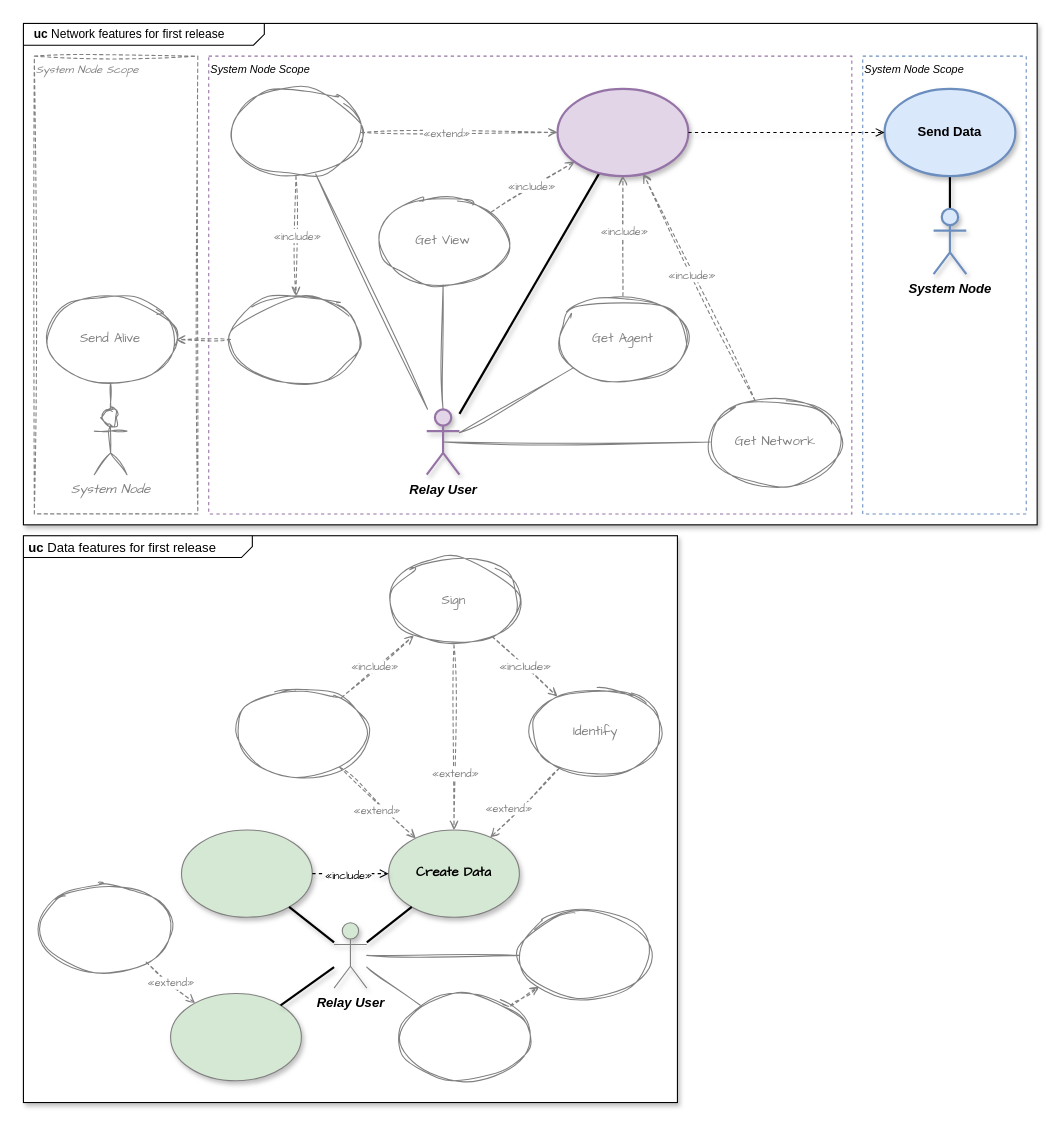
The diagram is 1063 pixels wide and 1129 high, and some of its shapes have lost their labels. Each missing label, with the centre of its shape:
"Connect to Network" goes at (x=295, y=132).
"Decrypt" goes at (x=105, y=927).
"Delete Data" goes at (x=464, y=1036).
"Encrypt" goes at (x=301, y=731).
"Get Data" goes at (x=623, y=133).
"Import Data" goes at (x=247, y=875).
"Make Network Priority List" goes at (x=295, y=339).
"Protect Data" goes at (x=584, y=955).
"Read Data" goes at (x=236, y=1038).
